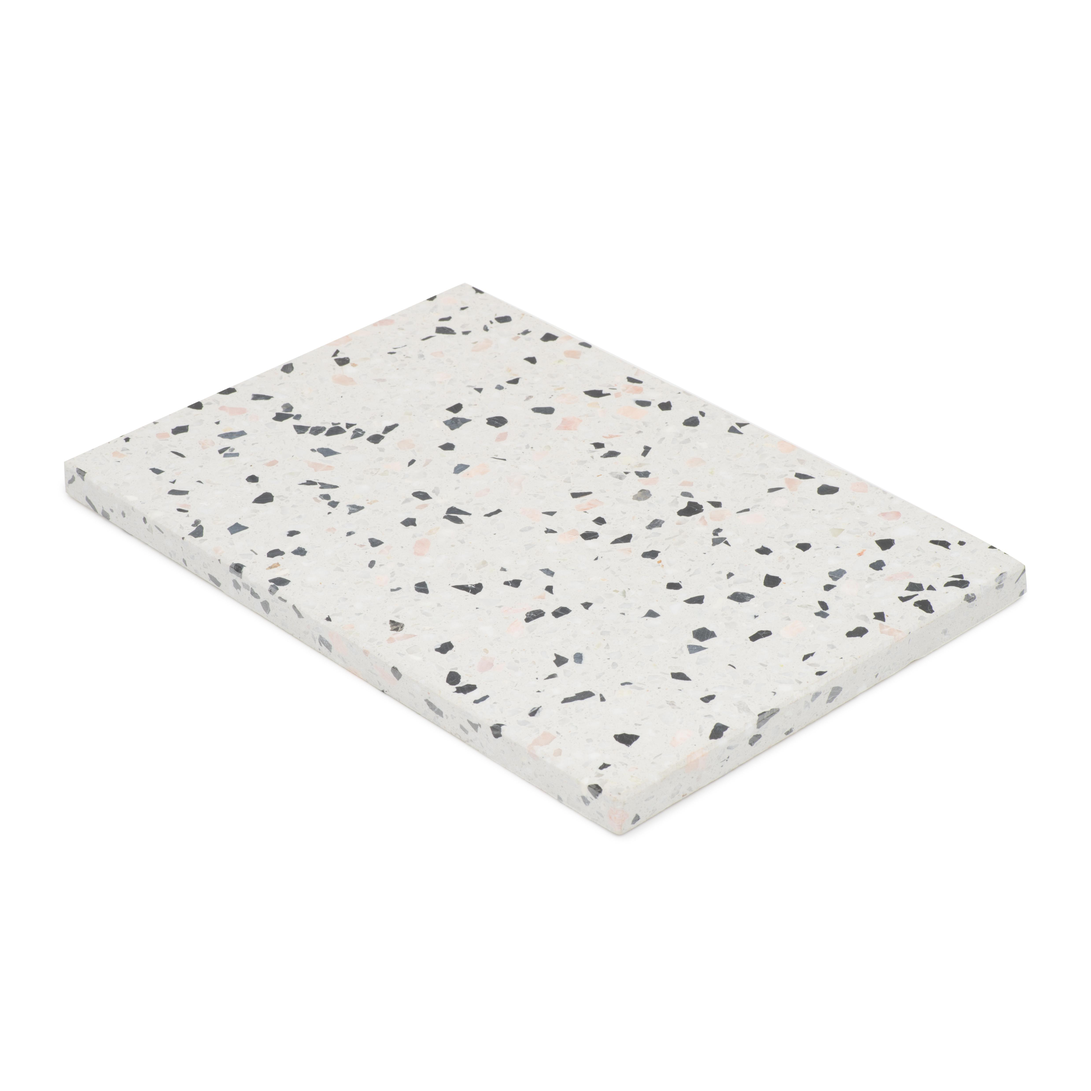gloved_hand: (58, 276, 1036, 848)
